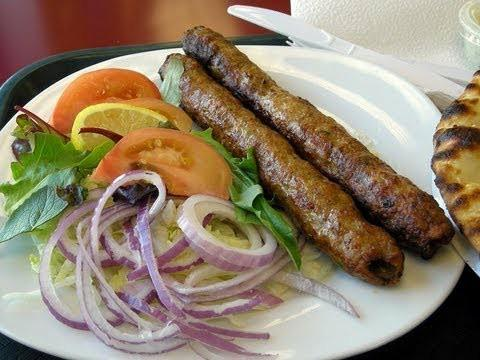Kebab: (180, 26, 455, 261), (159, 53, 405, 287)
